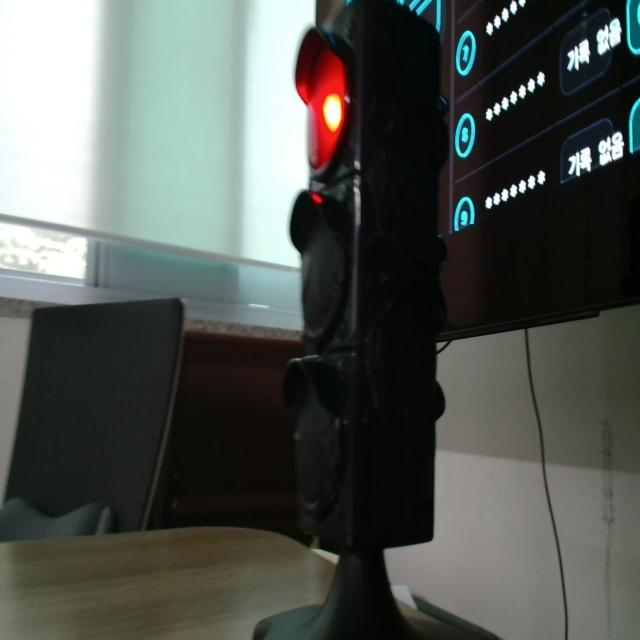red_light: (296, 30, 347, 173), (323, 94, 342, 132), (312, 194, 322, 205)
